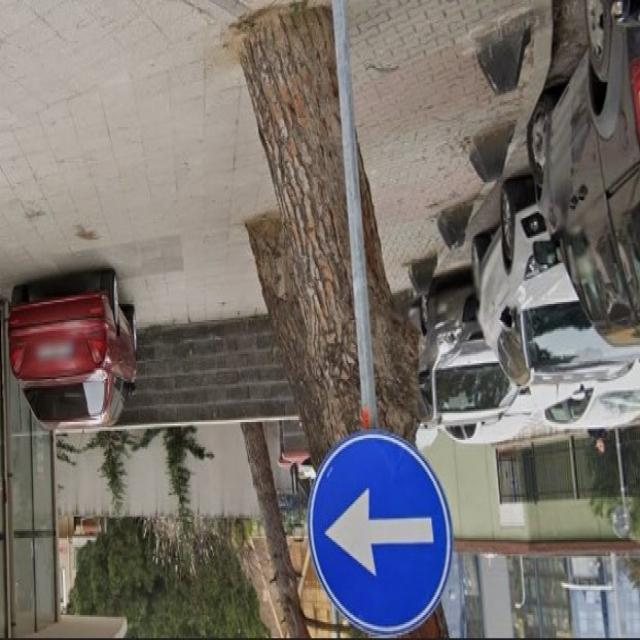Turn Left: (300, 438, 454, 638)
